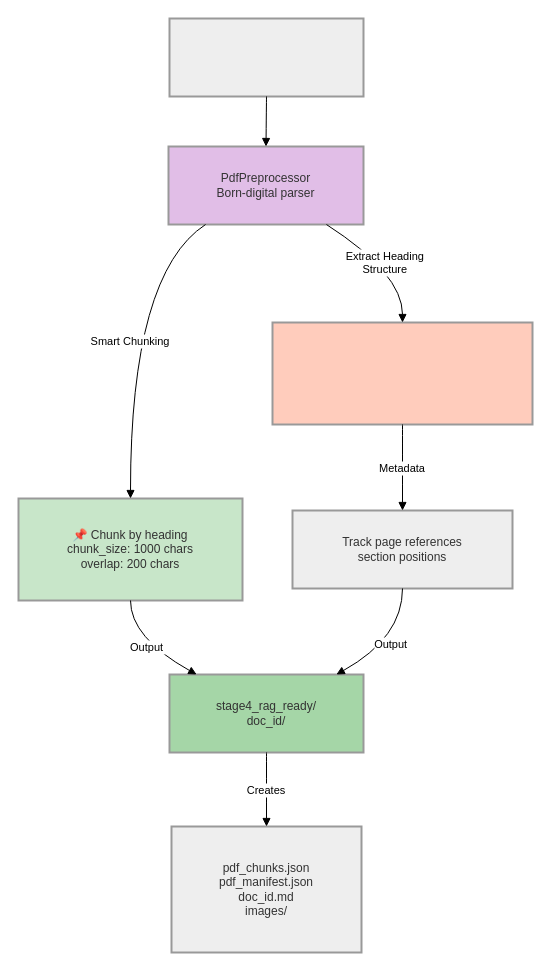
Some shapes in this 550 by 970 pixel diagram are drawn without their labels. The box of each missing label's shape, as (x1, y1, x2, y2) in pixels:
pdf_parsed/ JSON heading-tree: (168, 17, 364, 97)
📑 Reconstruct heading tree from pdf_parsed JSON: (271, 321, 533, 425)
